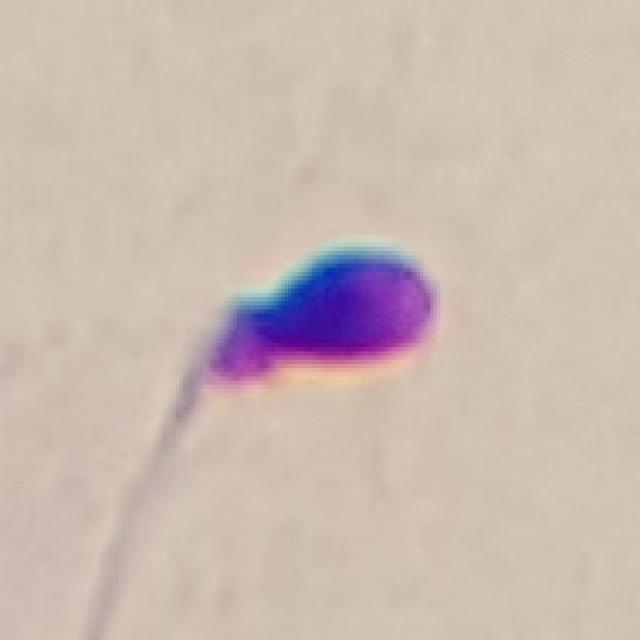abnormal sperm: (142, 246, 441, 484)
